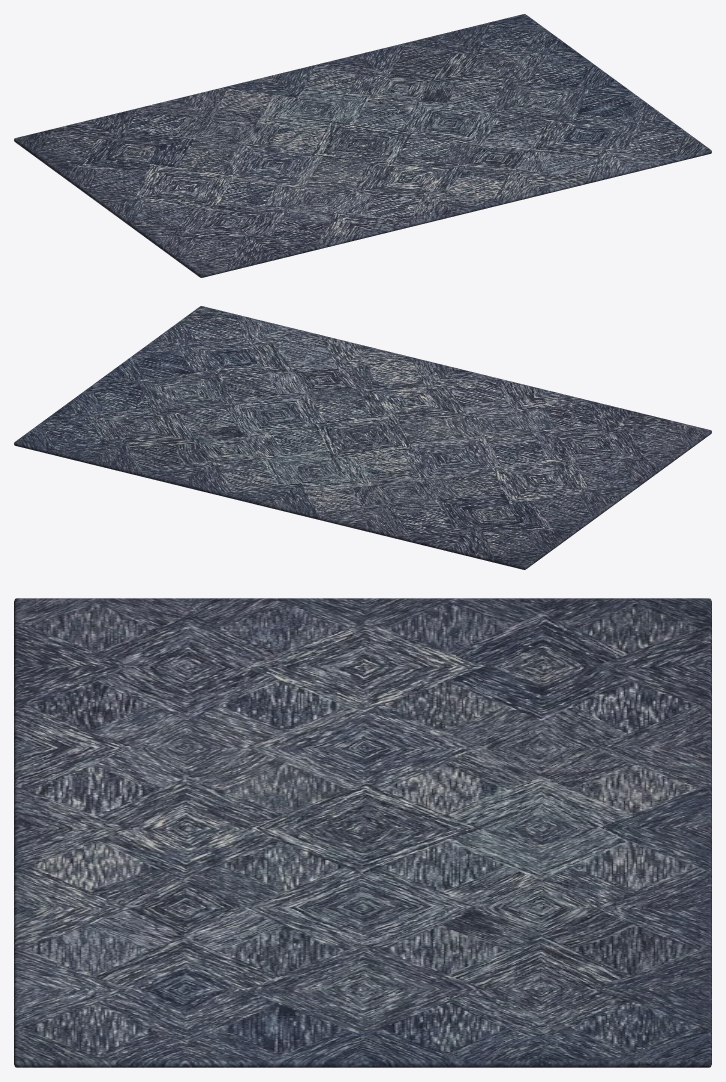
Rendered from rug_abo_B075ZBJL1T.glb.
The picture shows the model from 3 angles, top to bottom: view 1: azimuth 30°, elevation 25°; view 2: azimuth 150°, elevation 25°; view 3: azimuth 270°, elevation 25°; orthographic projection. The views are drawn at different scales.
Visible parts, largest first — view 1: RootNode; view 2: RootNode; view 3: RootNode.
Part boxes in pixels (<box>): RootNode: <box>14,14,711,277</box>; RootNode: <box>14,306,711,569</box>; RootNode: <box>14,598,711,1067</box>.
Bounding box in the file's own units: 2.33 × 0.0168 × 1.48.
1 material, 1 textured.
